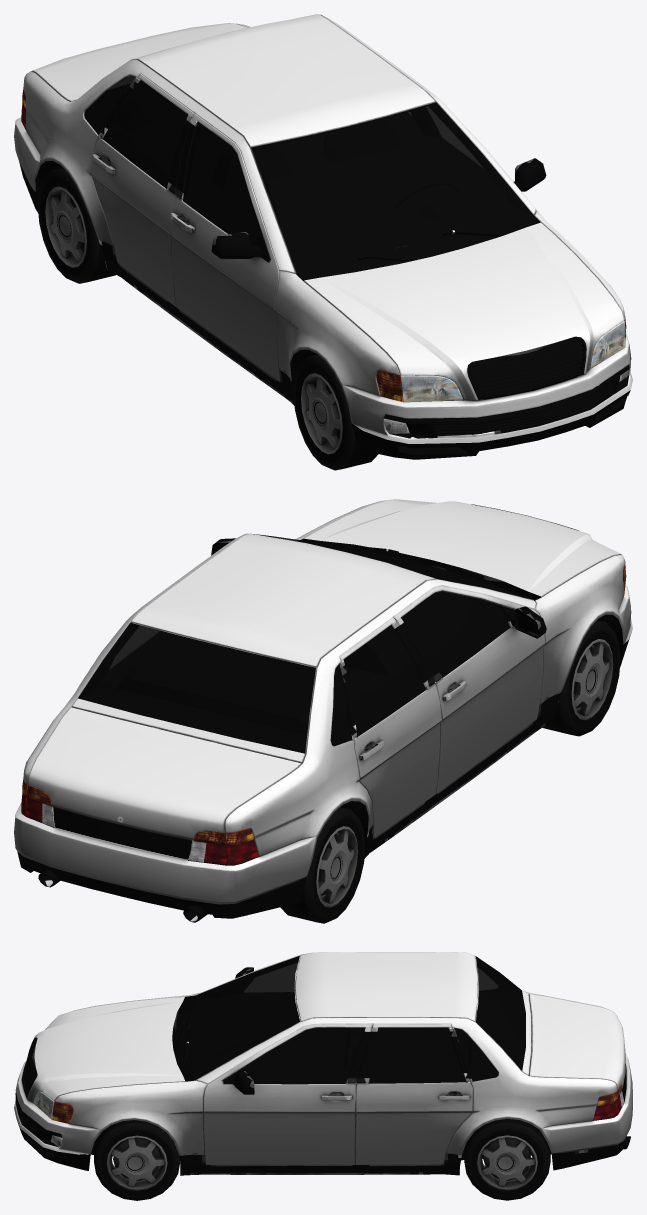
Rendered from sedan.glb.
The picture shows the model from 3 angles, top to bottom: view 1: azimuth 30°, elevation 25°; view 2: azimuth 150°, elevation 25°; view 3: azimuth 270°, elevation 25°; orthographic projection. The views are drawn at different scales.
Parts seen in each view (by area): view 1: body, glass, wheel (×2), optics; view 2: body, glass, wheel (×2), optics; view 3: body, glass, wheel (×2), optics.
Part boxes in pixels (x1,y1,x2,y2): body: [14, 14, 632, 459]; glass: [84, 75, 533, 272]; wheel (×2): [38, 167, 378, 470]; optics: [21, 89, 630, 433]; body: [14, 499, 632, 922]; glass: [78, 534, 531, 753]; wheel (×2): [280, 620, 620, 923]; optics: [21, 561, 626, 865]; body: [14, 952, 632, 1175]; glass: [180, 956, 525, 1084]; wheel (×2): [94, 1119, 550, 1200]; optics: [33, 1085, 624, 1146].
Bounding box in the file's own units: 1.94 × 1.34 × 4.36.
Materials: 4 (3 with a texture image).
